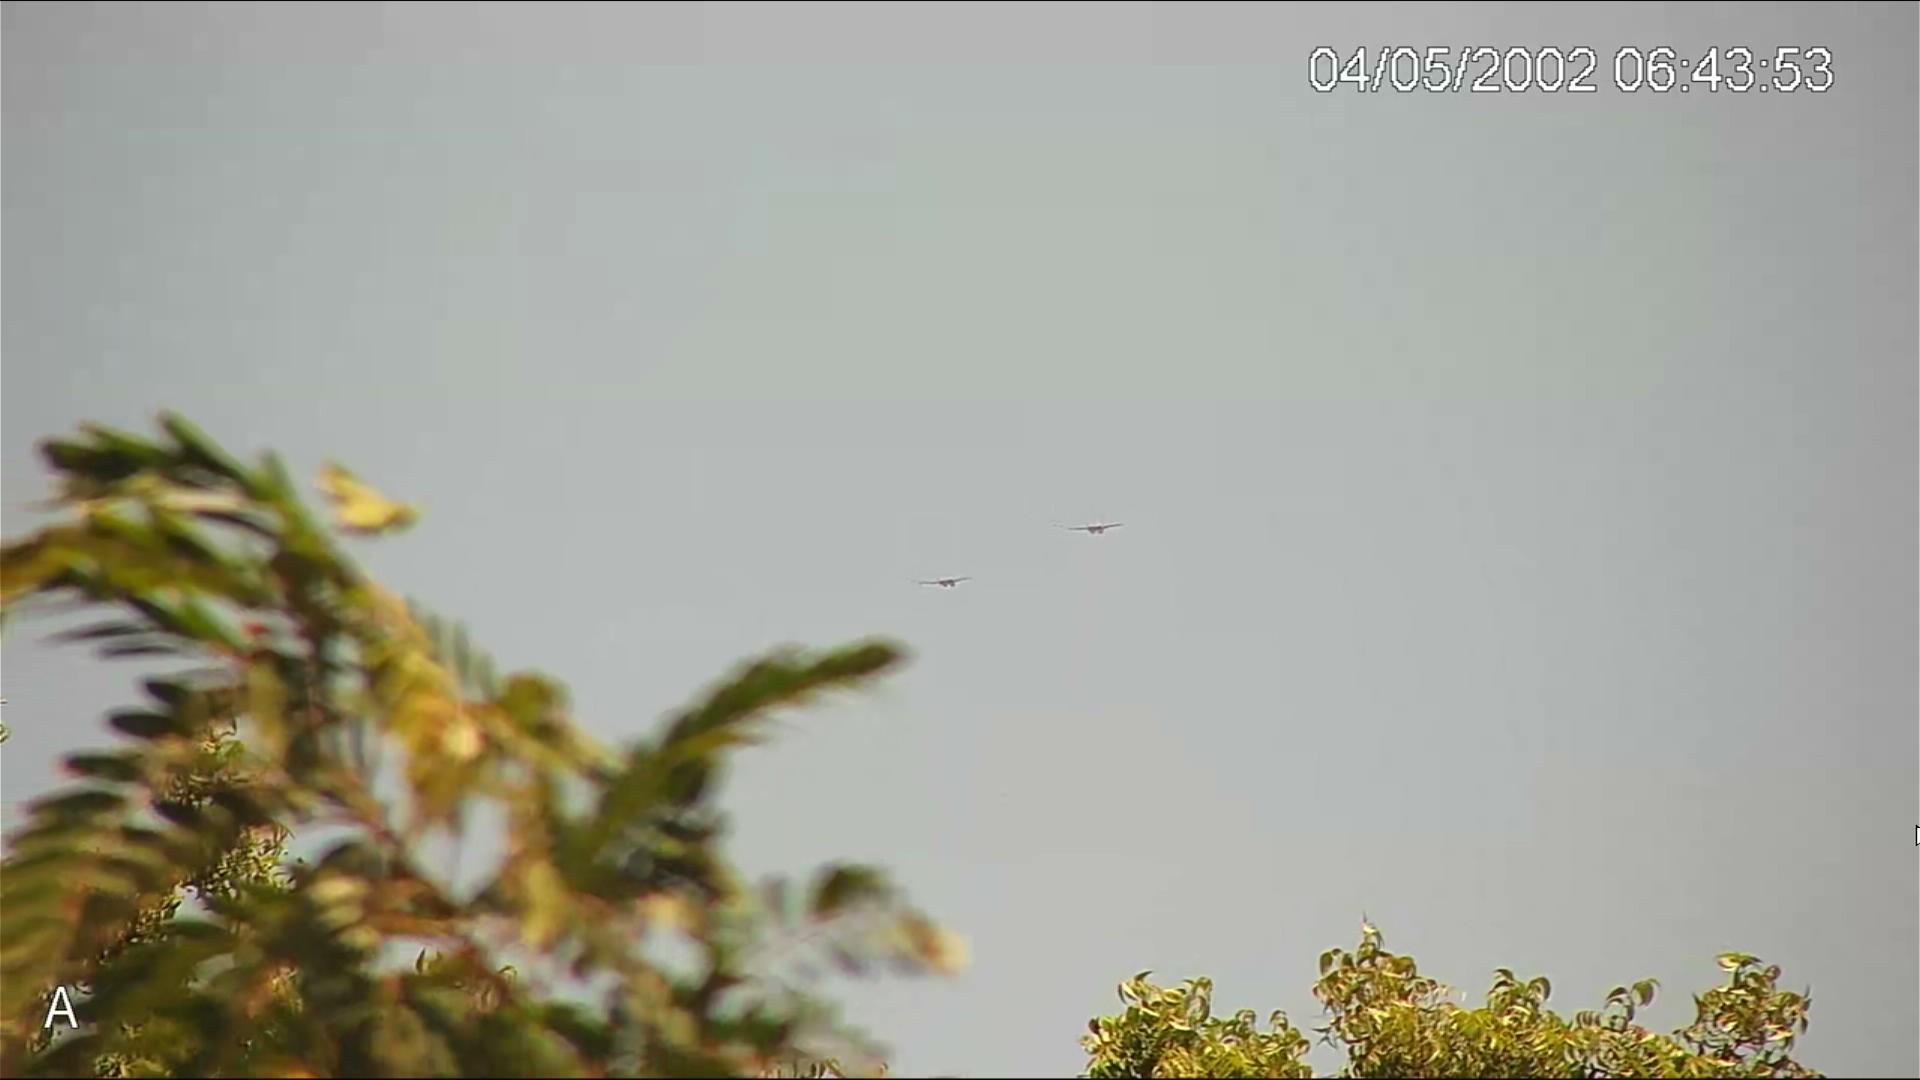SU_30: (1059, 516, 1126, 539), (918, 578, 967, 587)
